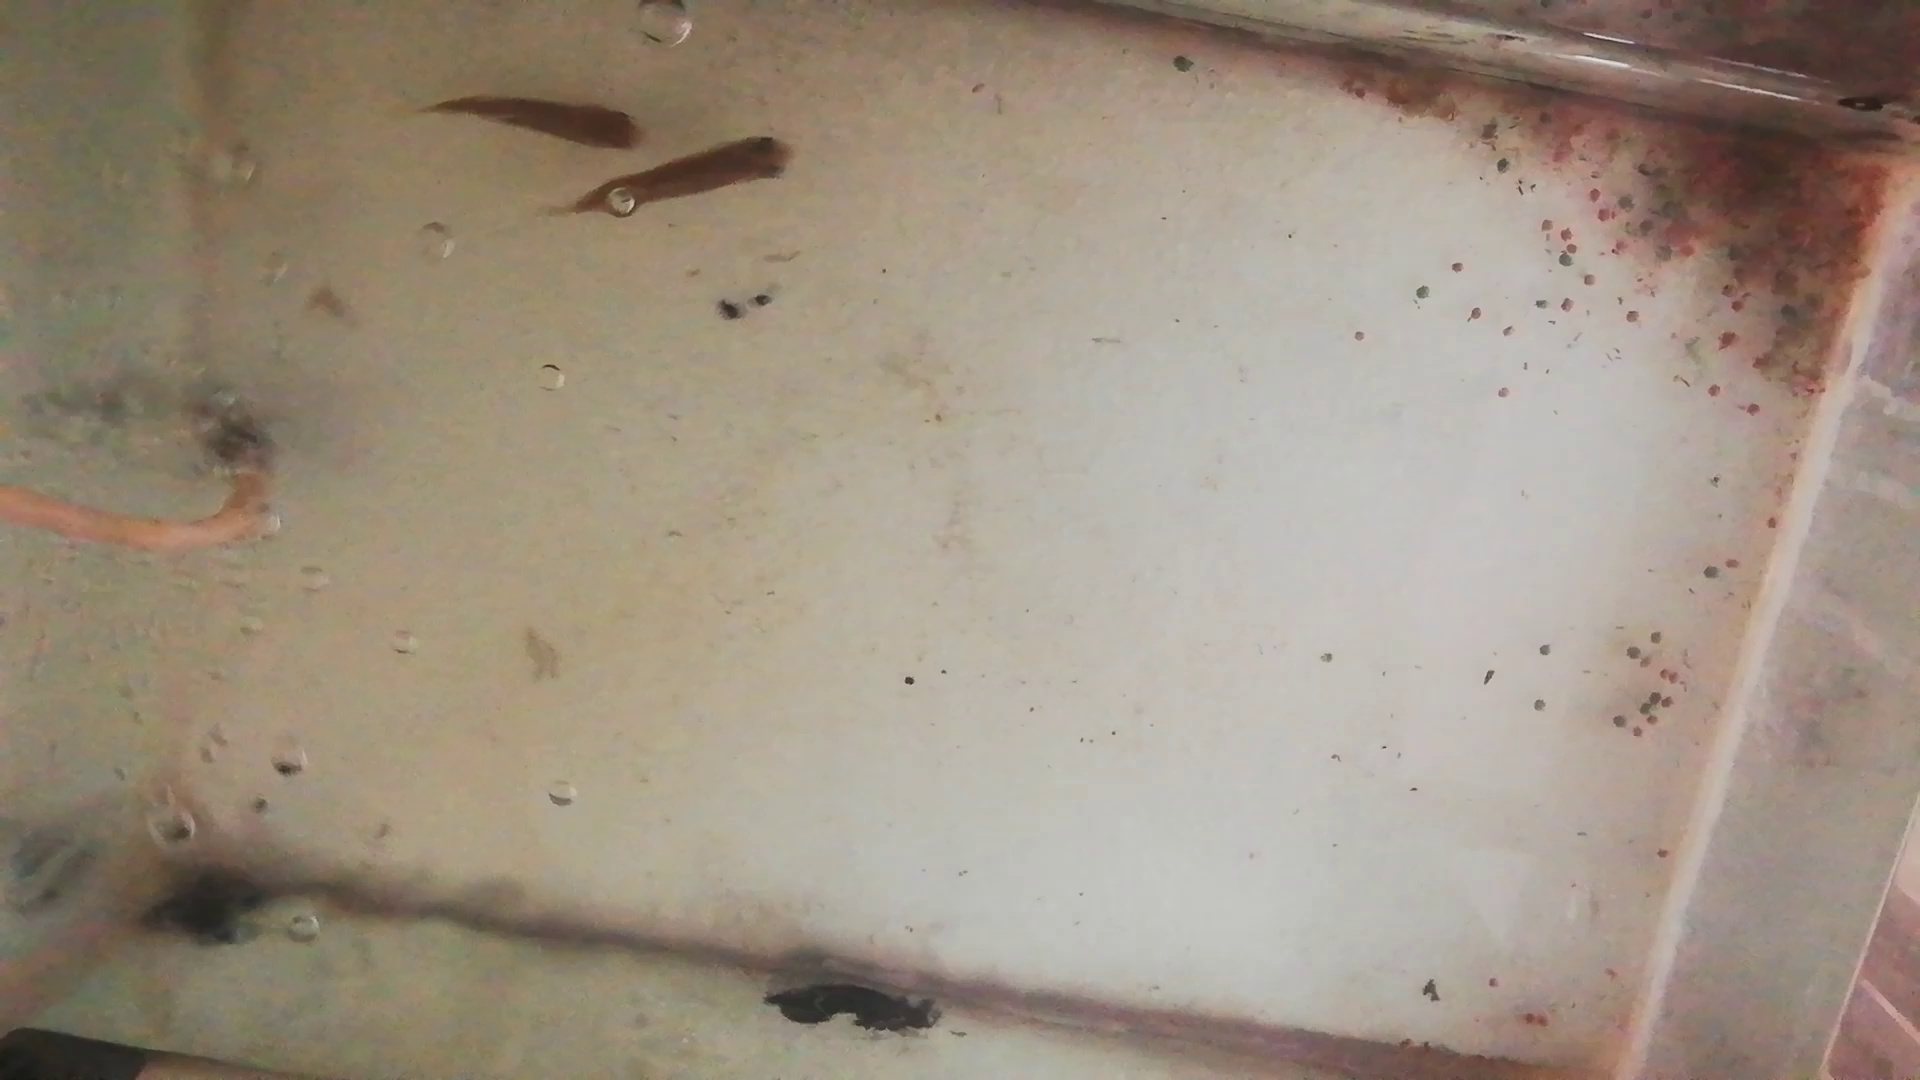fish: (541, 135, 798, 215), (415, 94, 646, 153)
